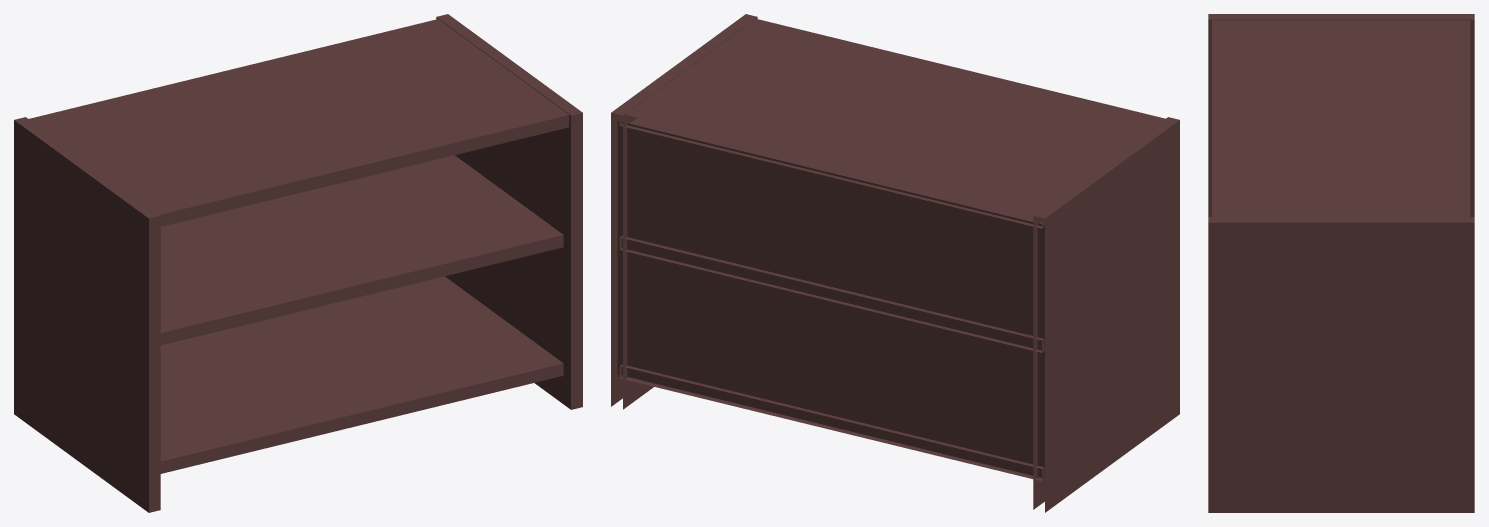
Rendered from shelves2.obj.
3 views of the same model, side by side, from view 1: azimuth 30°, elevation 25°; view 2: azimuth 150°, elevation 25°; view 3: azimuth 270°, elevation 25° (orthographic).
Visible parts, largest first — view 1: shelves2; view 2: shelves2; view 3: shelves2.
Boxes of the visible parts, x1,y1,x2,y2 form: shelves2: (14,14,582,512); shelves2: (611,14,1179,512); shelves2: (1208,14,1474,512).
Size of the model in its own units: 1.22 by 0.7901 by 0.6566.
